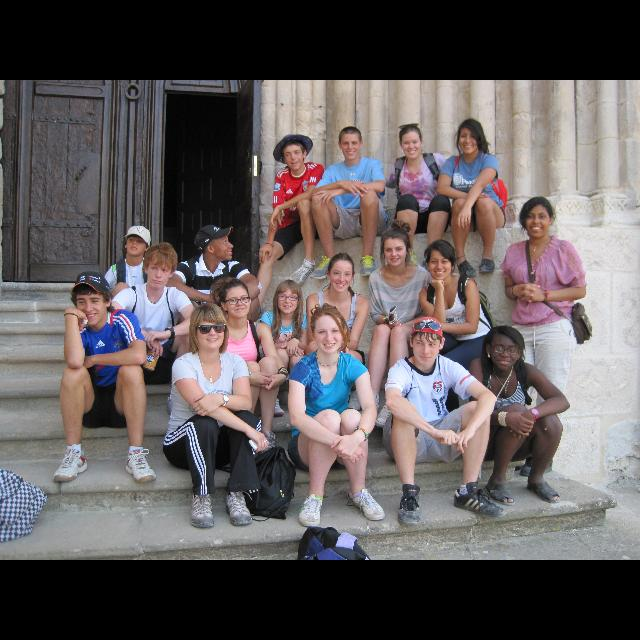head: (310, 306, 348, 356), (74, 280, 112, 328), (486, 326, 522, 372), (409, 322, 445, 366), (192, 304, 226, 350), (521, 197, 553, 239), (144, 248, 176, 288), (220, 280, 252, 318), (380, 228, 410, 268), (427, 241, 457, 281), (326, 254, 354, 292), (201, 232, 235, 262), (275, 278, 303, 314), (282, 137, 308, 171), (338, 126, 364, 160), (398, 126, 424, 160), (458, 119, 482, 155), (124, 228, 150, 256)
person: (382, 314, 512, 528), (496, 195, 594, 478), (160, 302, 272, 530), (286, 301, 388, 529), (52, 270, 158, 486), (464, 324, 574, 508), (352, 218, 444, 432), (233, 132, 327, 324), (200, 275, 290, 469), (416, 237, 500, 438), (106, 240, 204, 408), (156, 222, 264, 374), (370, 122, 466, 282), (307, 124, 389, 282), (434, 116, 510, 280), (304, 252, 372, 426), (98, 224, 180, 358), (256, 278, 314, 420)
